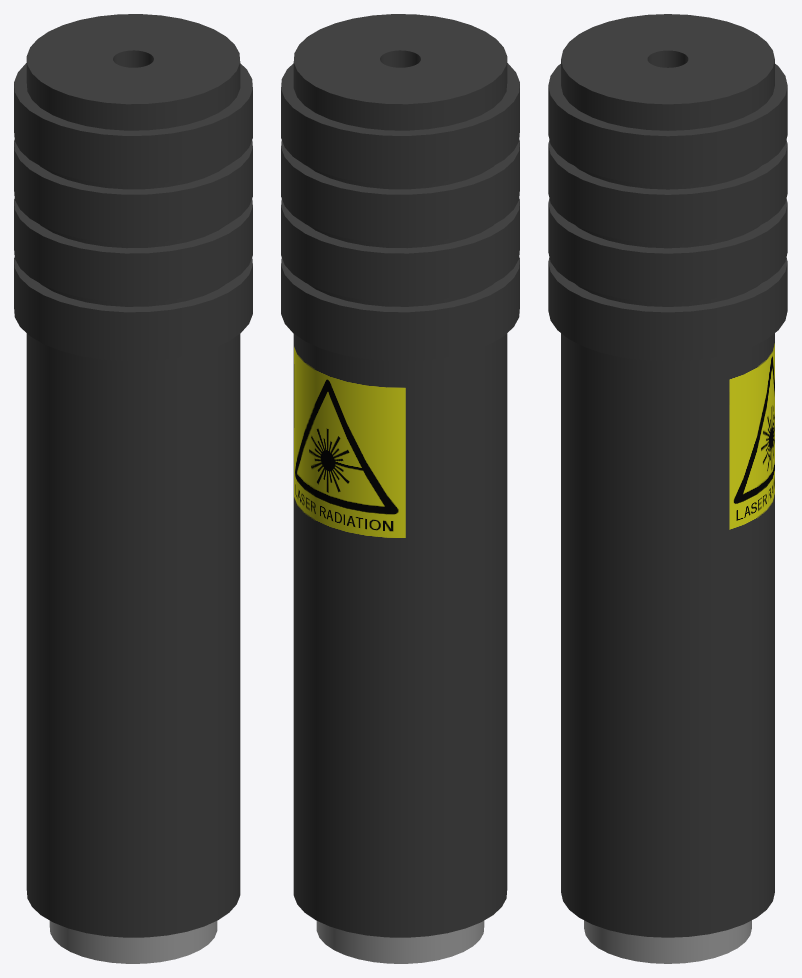
File: laser.fbx
3 views of the same model, side by side, from view 1: azimuth 30°, elevation 25°; view 2: azimuth 150°, elevation 25°; view 3: azimuth 270°, elevation 25° (orthographic).
Visible parts, largest first — view 1: Main, Sink; view 2: Main, Sink; view 3: Main, Sink.
Part boxes in pixels (<box>): Main: <box>26,14,240,963</box>; Sink: <box>14,63,252,361</box>; Main: <box>293,14,507,963</box>; Sink: <box>281,63,519,361</box>; Main: <box>561,14,774,963</box>; Sink: <box>548,64,787,361</box>.
Size of the model in its own units: 84.69 by 339 by 84.69.
